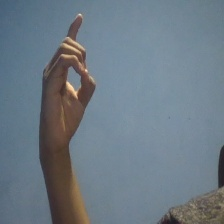D: (34, 11, 98, 154)
